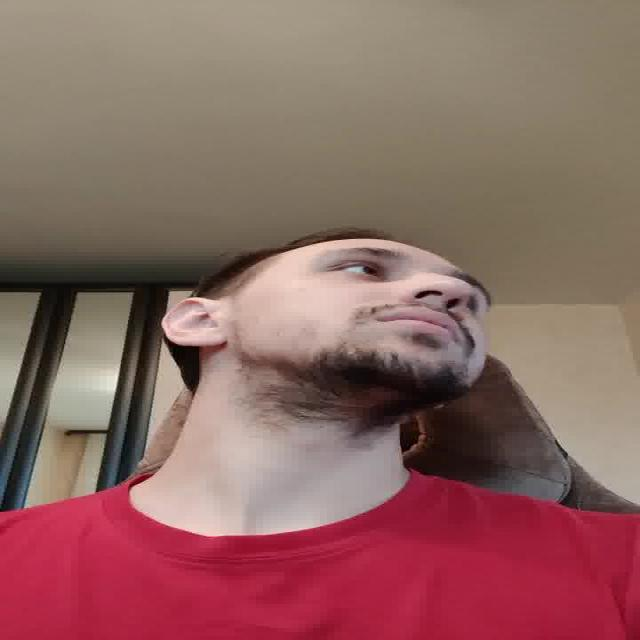earlobe: (163, 298, 229, 349)
